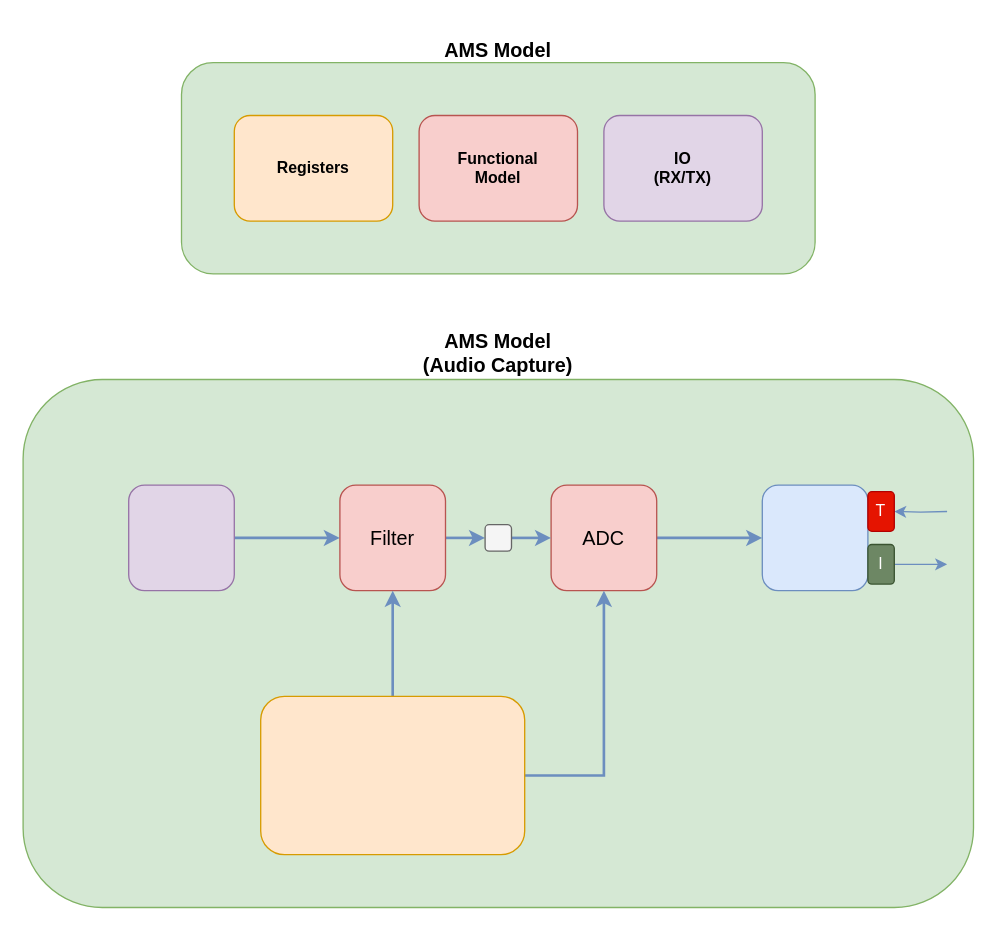
Image size: 997x931. Some labels were removed from this diagram. Here are the shapes that lost their labels. From the top down, the centre of each, then its label:
At point (180, 537): "Microphone (RX)".
At point (814, 537): "TLM (TX)".
At point (392, 775): "Registers: ADC: Sample frequency Filter: Gain Cutoff frequency".
